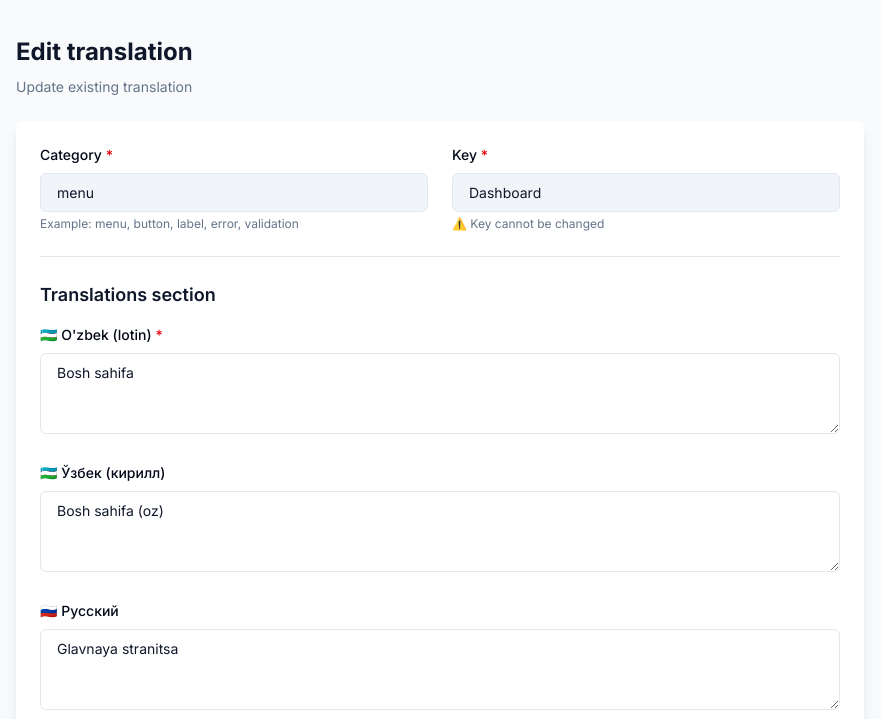
Test: TranslationFormPage › clears field error when user types in the errored field
Clear the Uzbek field to trigger validation error
Clear the text box with placeholder "Primary text (uz-UZ)". click: (440,394)
box: [40,353,840,434]
(page scrolled)
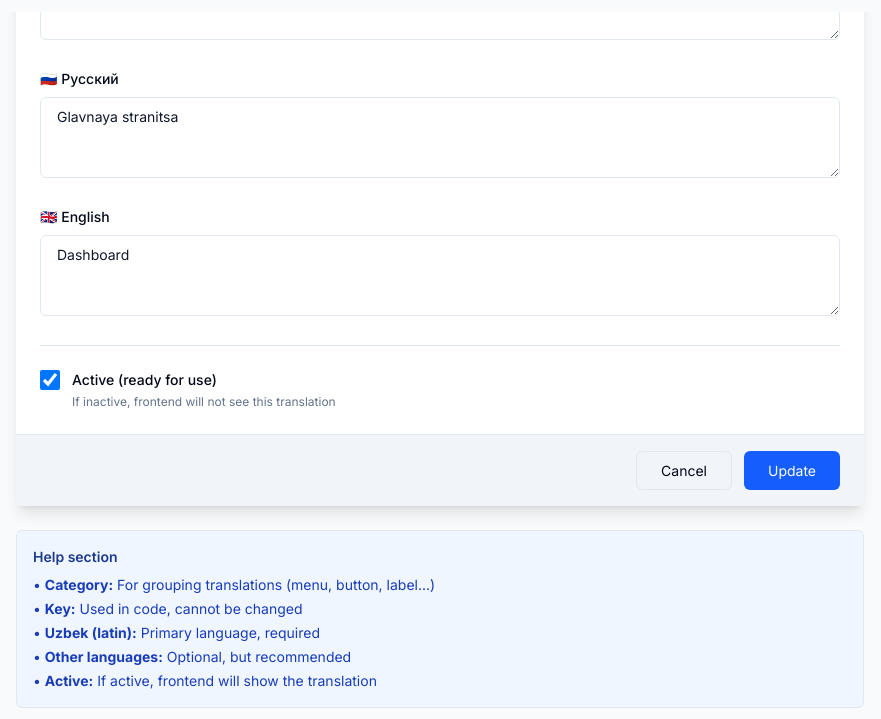
Click the button "Update". click: (792,470)
box: [744,451,840,490]
(page scrolled)
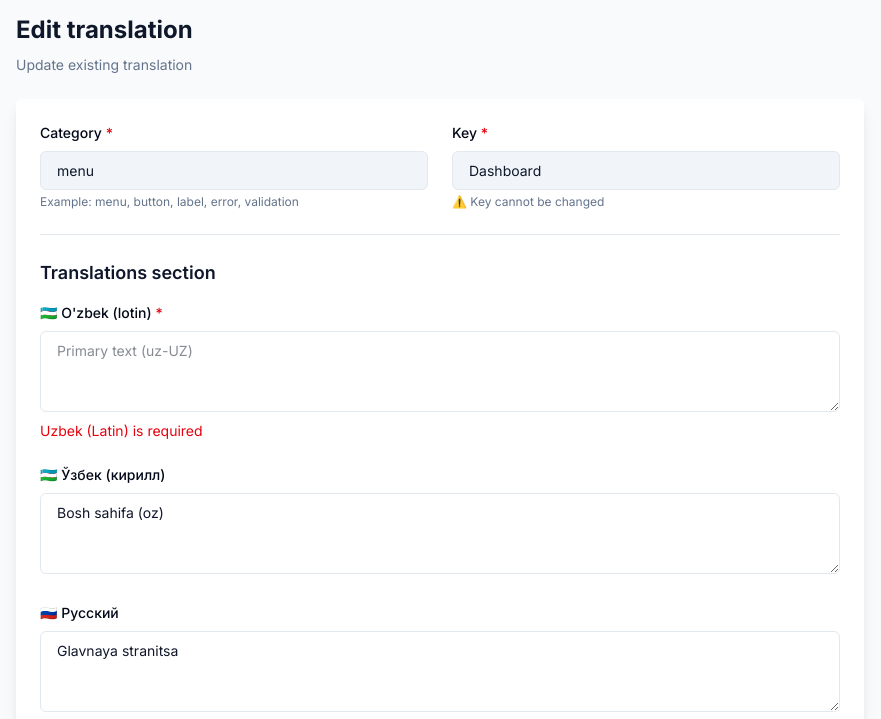
Check: the text "Uzbek (Latin) is required" is shown, box [40,422,203,439]
Now type in the field - error should clear
Type "Fixed text" into the text box with placeholder "Primary text (uz-UZ)". click: (440,372)
box: [40,331,840,412]
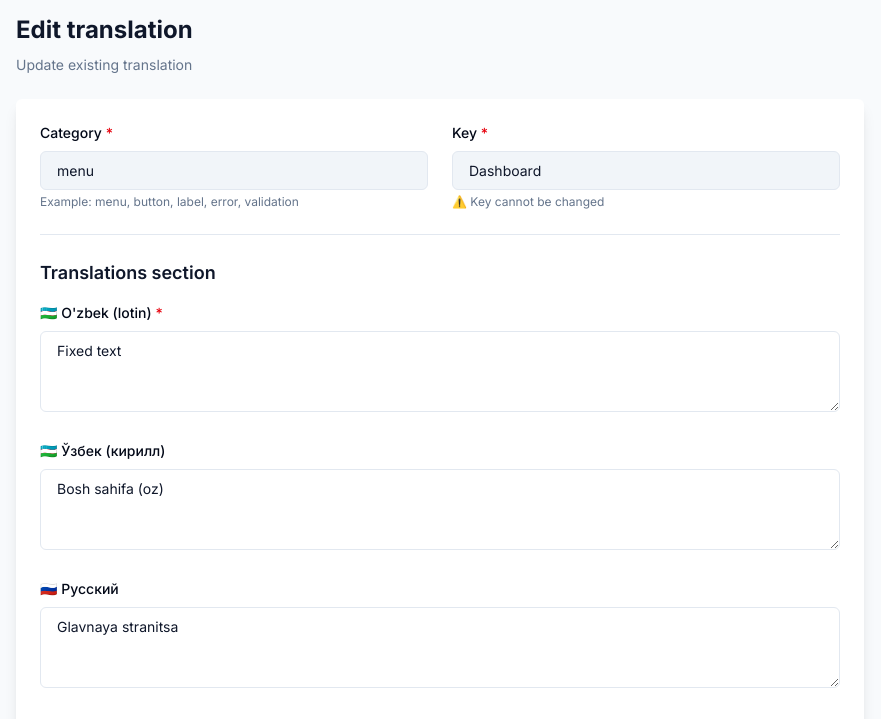
Check: the text "Uzbek (Latin) is required" is gone
